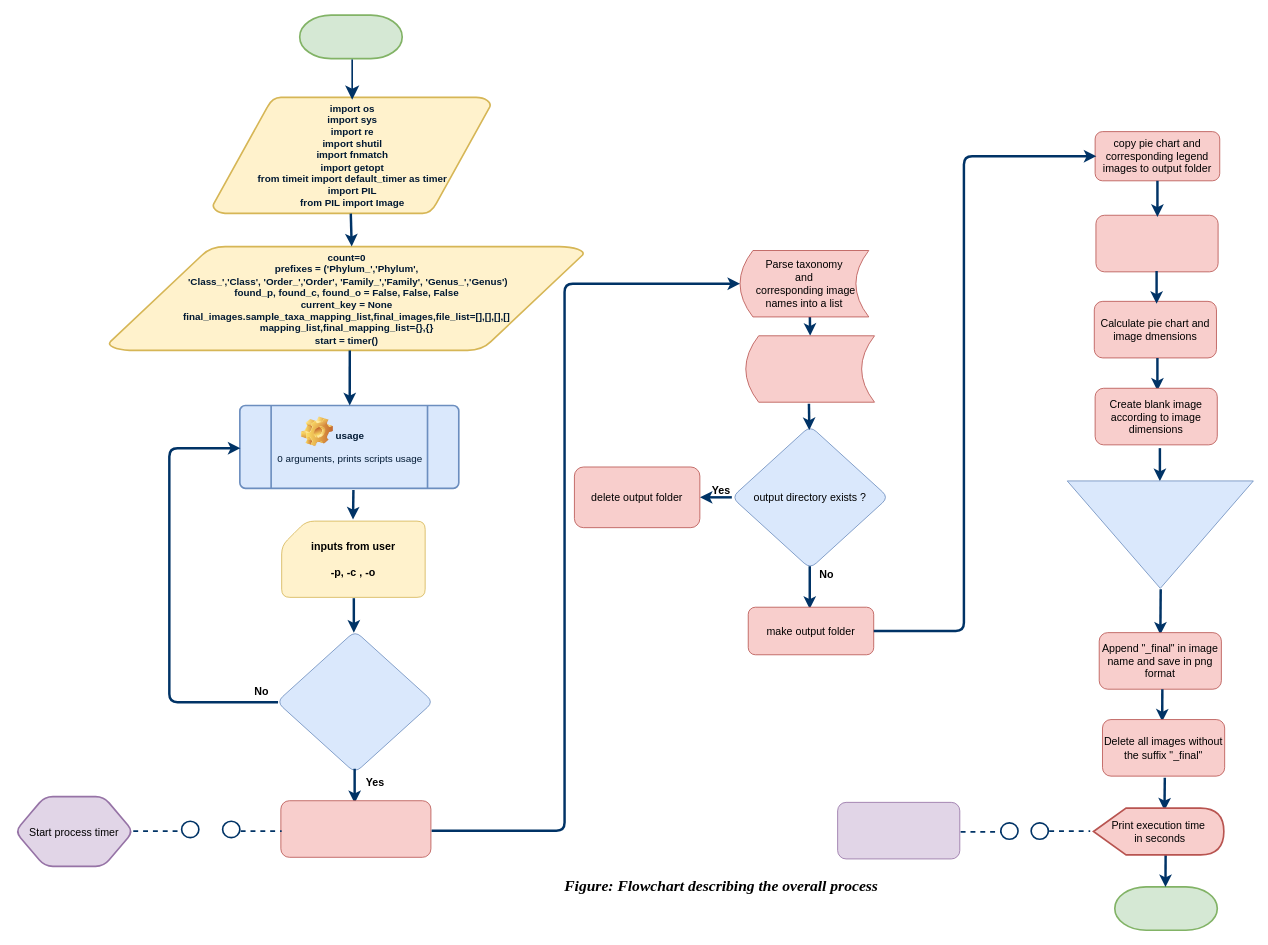
The diagram is 1268 pixels wide and 945 high, and some of its shapes have lost their labels. The shapes that lost their labels are listed below. From the top down, each one's centre as x and y in pixels, then its label:
(350,36): Start
(1156,243): Rename images according to pie chart and corresponding legends
(810,368): Make a dictionary of sample names and corresponding image and legend names
(1159,534): Merge pie chart and legend images horizontally
(354,701): -c or -p or -o provided ?
(355,828): parse pie_chart.html
(898,830): Stop process timer
(1166,908): Stop
